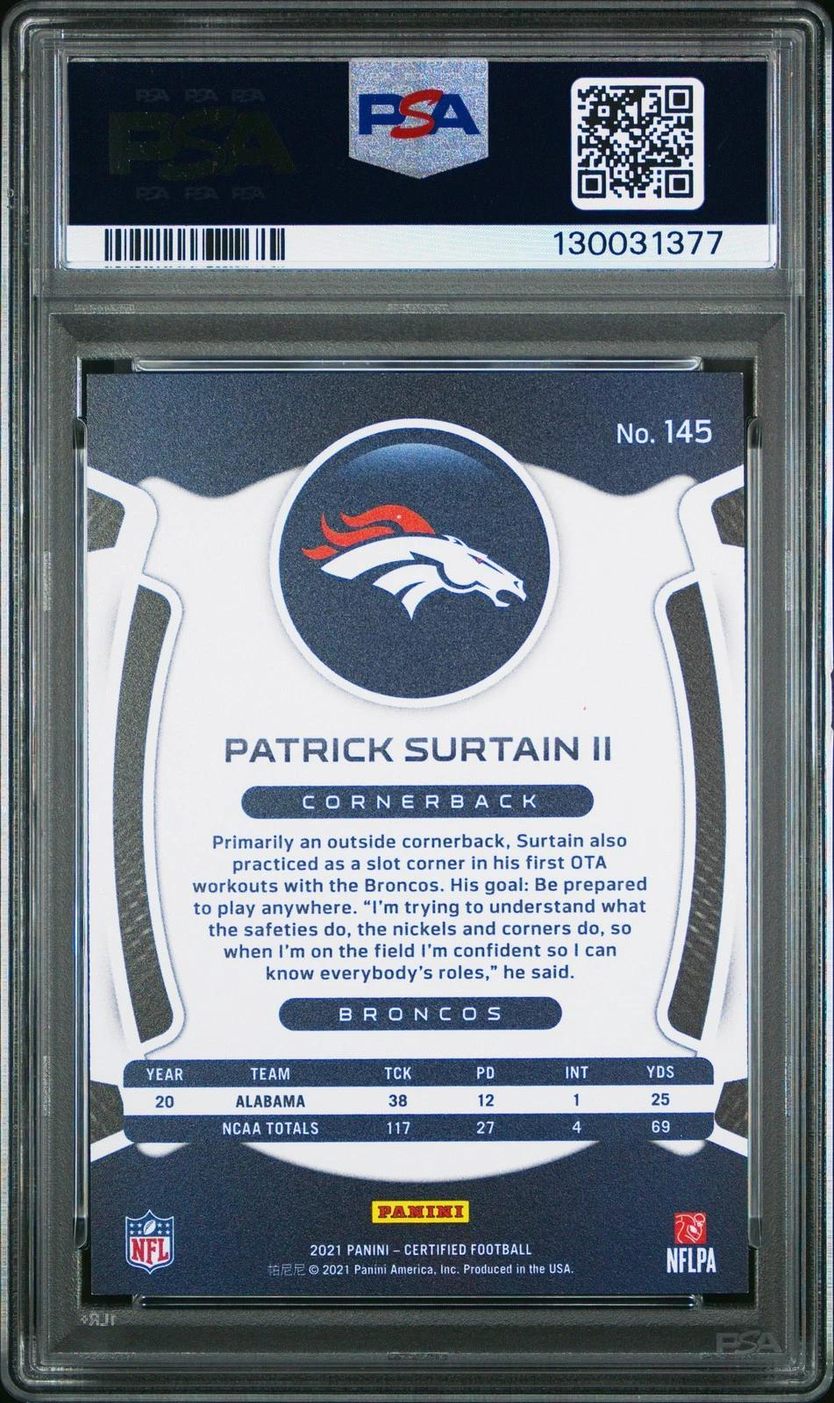card-2UtV: (86, 371, 750, 1297)
